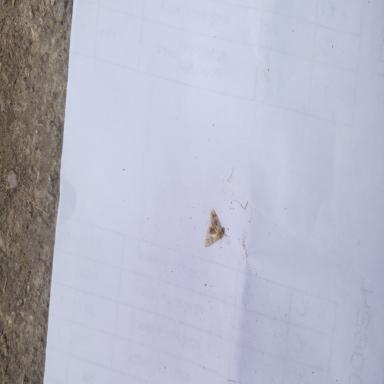abw: (204, 208, 230, 248)
